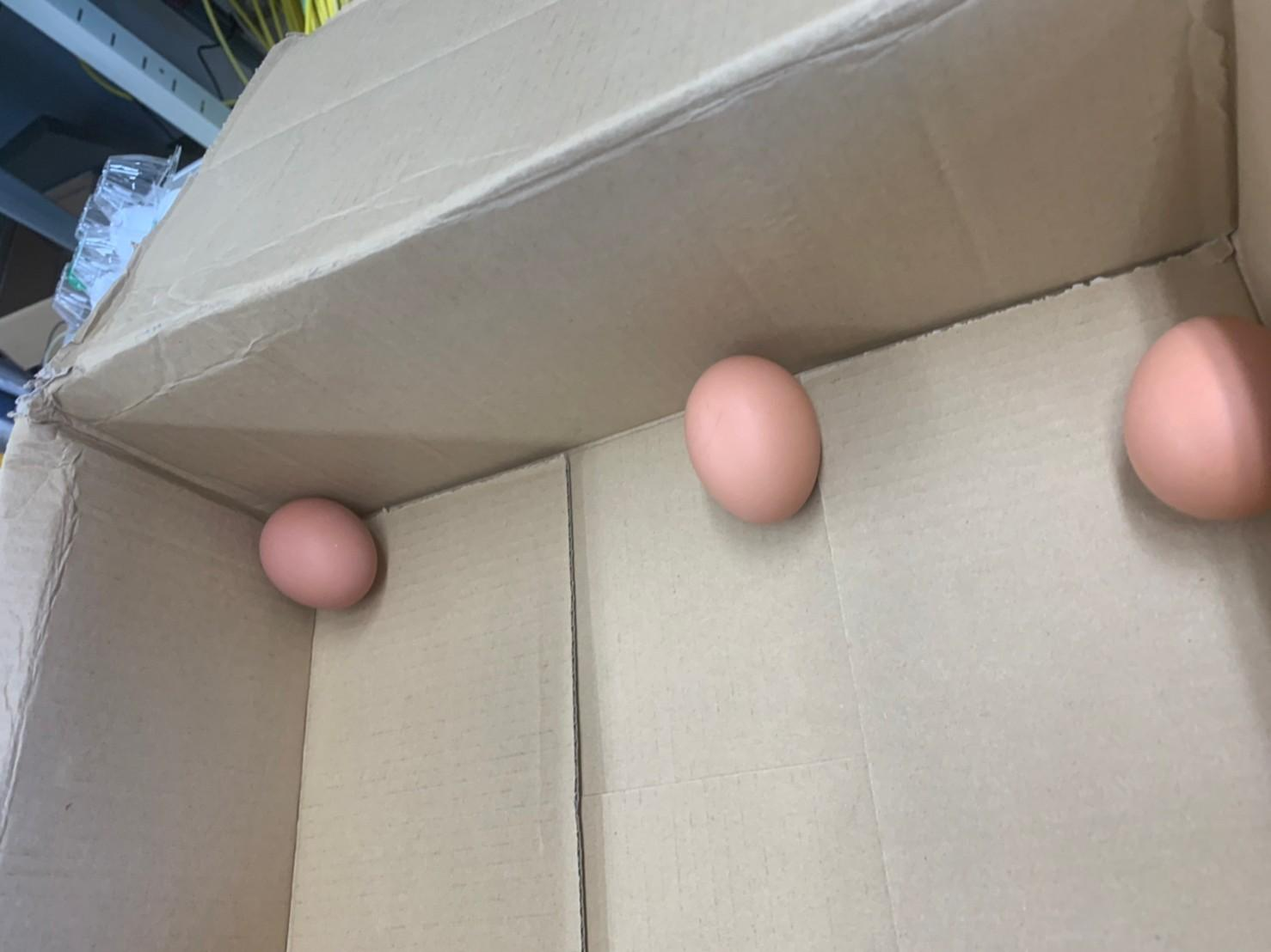egg: (1117, 311, 1271, 523), (679, 350, 824, 528), (257, 493, 380, 614)
